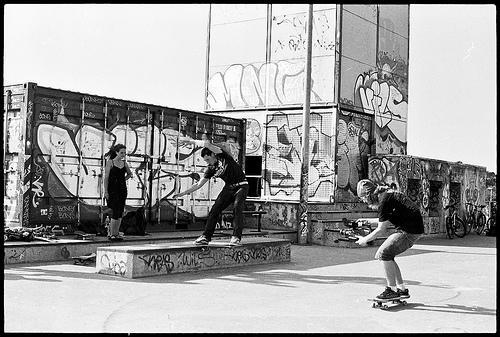bicycle: (444, 196, 468, 240), (464, 202, 490, 236), (486, 201, 497, 232)
